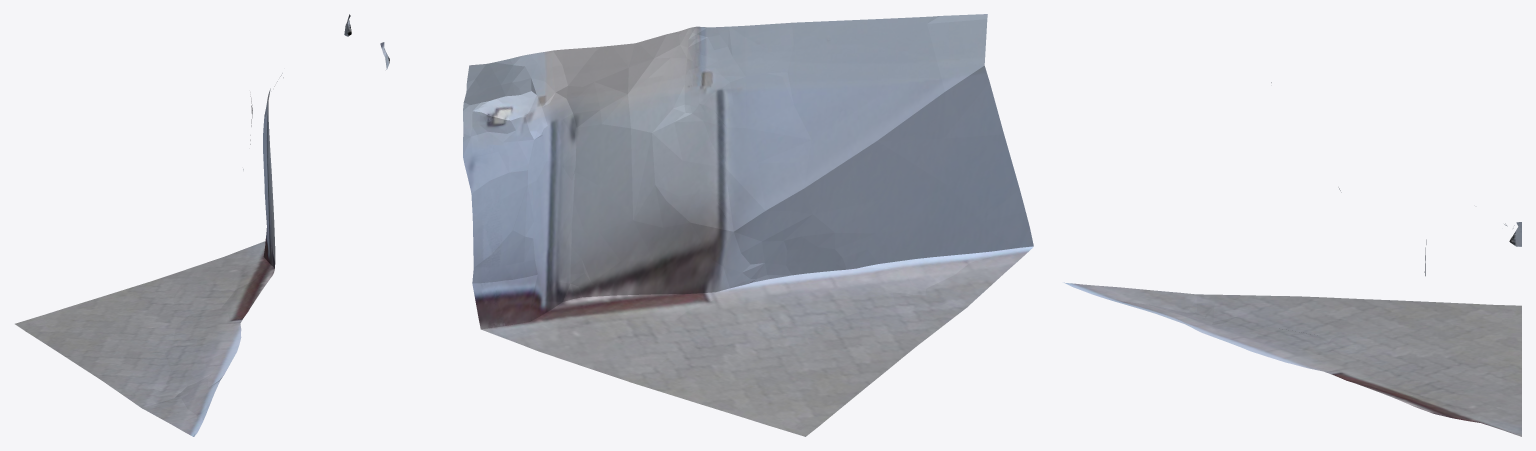
The picture shows the model from 3 angles, left to right: view 1: azimuth 30°, elevation 25°; view 2: azimuth 150°, elevation 25°; view 3: azimuth 270°, elevation 25°; orthographic projection. The views are drawn at different scales.
Bounding box in the file's own units: 3.08 × 2 × 2.86.
Materials: 1 (1 with a texture image).
